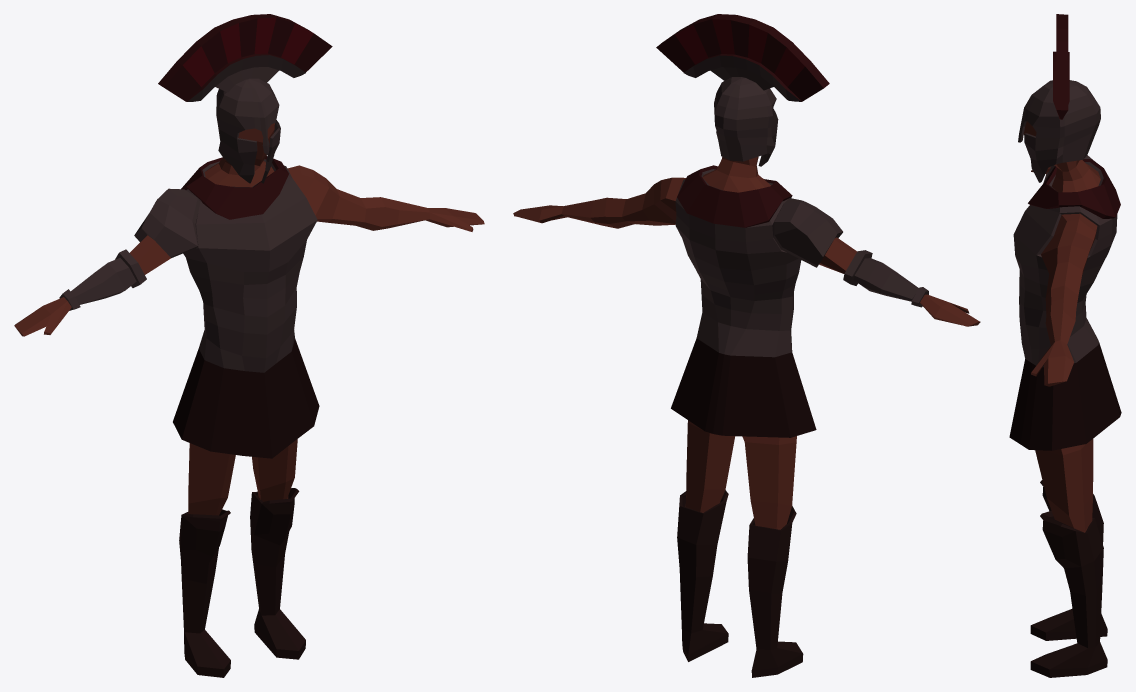
File: Roman Centurion.obj
The picture shows the model from 3 angles, left to right: view 1: azimuth 30°, elevation 25°; view 2: azimuth 150°, elevation 25°; view 3: azimuth 270°, elevation 25°; orthographic projection.
Visible parts, largest first — view 1: Shirt_Cylinder.003, Body_Cylinder, Boots_Cylinder.004, Helm_top_Cube.001, Helmet_Cylinder.002, Cloak_Cylinder.001, Shoulder_Cylinder.006, Wrist_Guard_Cylinder.005; view 2: Shirt_Cylinder.003, Body_Cylinder, Boots_Cylinder.004, Helm_top_Cube.001, Helmet_Cylinder.002, Cloak_Cylinder.001, Shoulder_Cylinder.006, Wrist_Guard_Cylinder.005; view 3: Shirt_Cylinder.003, Body_Cylinder, Boots_Cylinder.004, Helmet_Cylinder.002, Cloak_Cylinder.001, Helm_top_Cube.001.
Part boxes in pixels (box(x1,y1,x2,y2)): Shirt_Cylinder.003: box(173, 159, 319, 458); Body_Cylinder: box(14, 123, 484, 515); Boots_Cylinder.004: box(179, 488, 305, 677); Helm_top_Cube.001: box(158, 14, 332, 101); Helmet_Cylinder.002: box(216, 78, 280, 183); Cloak_Cylinder.001: box(181, 156, 288, 219); Shoulder_Cylinder.006: box(134, 188, 200, 257); Wrist_Guard_Cylinder.005: box(59, 249, 146, 310); Shirt_Cylinder.003: box(671, 169, 816, 437); Body_Cylinder: box(513, 156, 980, 529); Boots_Cylinder.004: box(677, 490, 803, 677); Helm_top_Cube.001: box(656, 14, 829, 101); Helmet_Cylinder.002: box(714, 77, 778, 166); Cloak_Cylinder.001: box(677, 165, 792, 227); Shoulder_Cylinder.006: box(772, 198, 842, 267); Wrist_Guard_Cylinder.005: box(843, 250, 928, 307); Shirt_Cylinder.003: box(1009, 162, 1121, 450); Body_Cylinder: box(1023, 121, 1100, 532); Boots_Cylinder.004: box(1030, 480, 1107, 677); Helmet_Cylinder.002: box(1018, 80, 1100, 182); Cloak_Cylinder.001: box(1028, 159, 1120, 218); Helm_top_Cube.001: box(1053, 14, 1069, 119).
Size of the model in its own units: 2.77 by 3.66 by 0.5927.
